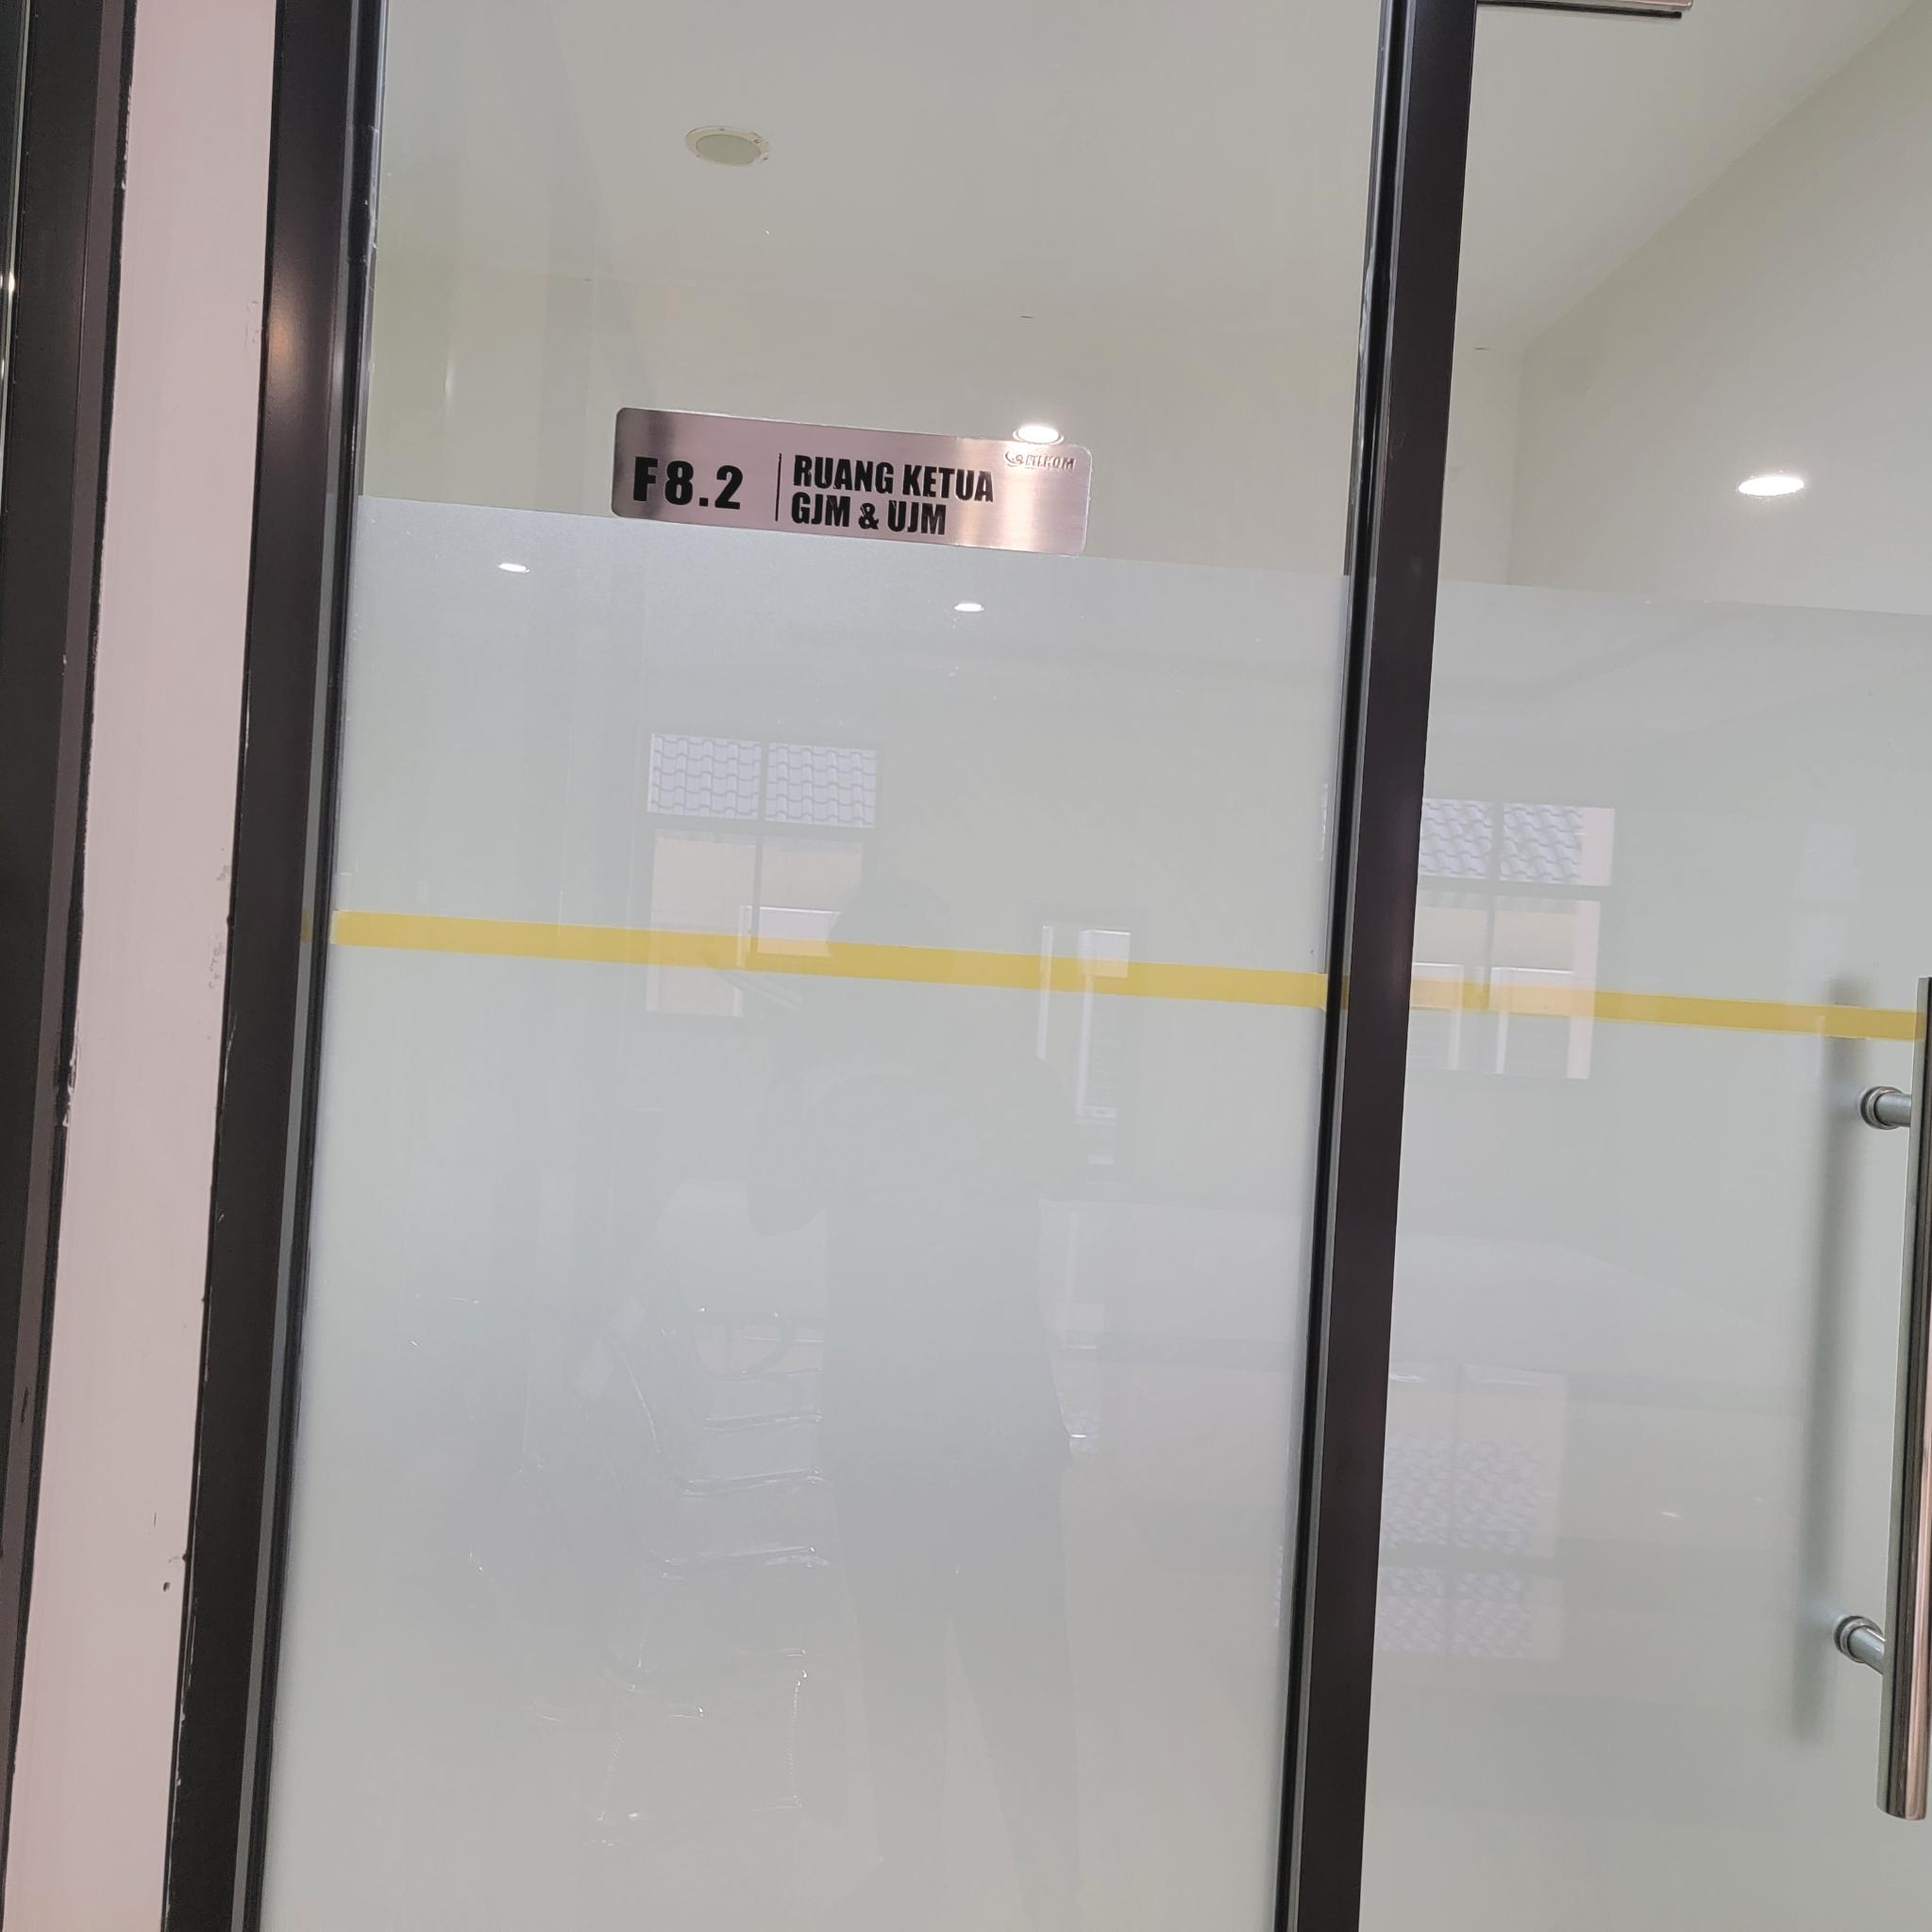plate: (610, 407, 1092, 556)
